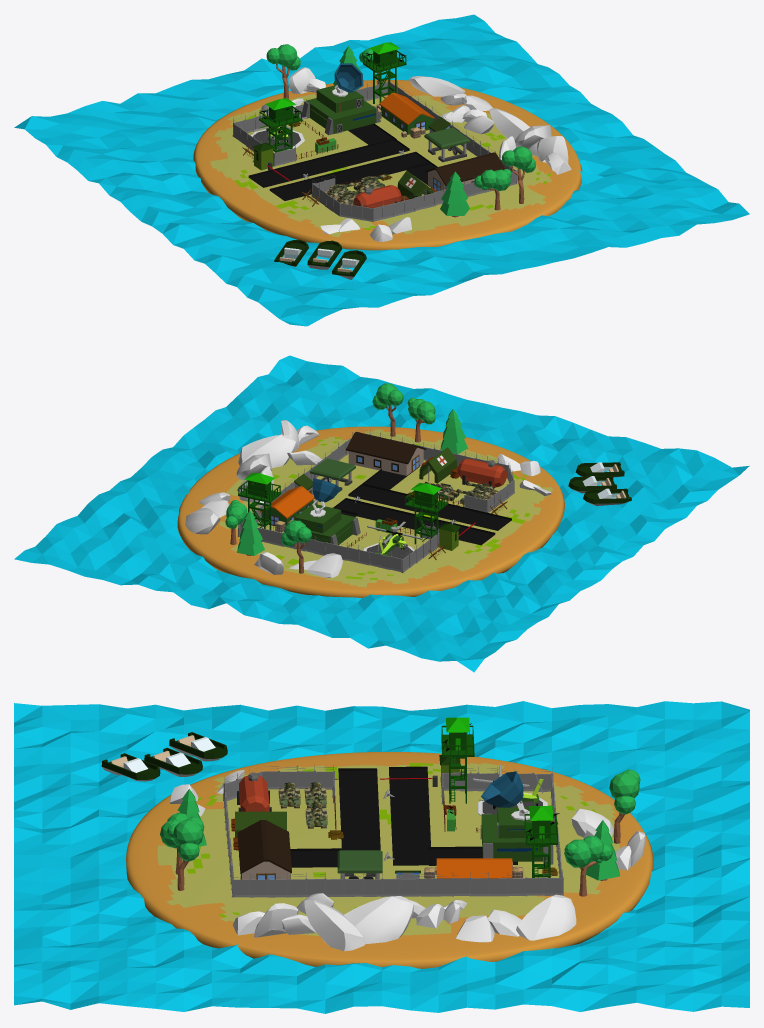
Rendered from update7_military_base (1).fbx.
3 renders of one model, top to bottom at view 1: azimuth 30°, elevation 25°; view 2: azimuth 150°, elevation 25°; view 3: azimuth 270°, elevation 25°, orthographic. The views are drawn at different scales.
Parts seen in each view (by area): view 1: Low Poly Water, Cube, RadioStation.001, Plane, Plane.001, Refectory.001, TOWER.004, Quarter.001, TOWER.006, TargetPratice.002, Cone.001, tree.002 (+12 smaller); view 2: Low Poly Water, Cube, Refectory.001, RadioStation.001, Plane.001, Plane, TOWER.006, TOWER.004, Quarter.001, LP_S-Rock2_03.001, GasTank.001, TargetPratice.002 (+15 smaller); view 3: Low Poly Water, Cube, Plane, RadioStation.001, Plane.001, Refectory.001, LP_S-Rock2_03, LP_S-Rock2_03.002, LP_S-Rock2_03.001, TOWER.006, TOWER.004, Quarter.001 (+20 smaller).
Part boxes in pixels (x1,y1,x2,y2): Low Poly Water: [14, 14, 749, 326]; Cube: [193, 80, 582, 250]; RadioStation.001: [302, 63, 380, 135]; Plane: [248, 138, 409, 187]; Plane.001: [269, 151, 430, 200]; Refectory.001: [425, 152, 505, 191]; TOWER.004: [363, 42, 406, 103]; Quarter.001: [379, 92, 434, 134]; TOWER.006: [259, 98, 302, 152]; TargetPratice.002: [424, 127, 470, 162]; Cone.001: [440, 171, 469, 217]; tree.002: [502, 146, 535, 203]; Low Poly Water: [14, 355, 749, 672]; Cube: [177, 426, 564, 597]; Refectory.001: [346, 432, 426, 475]; RadioStation.001: [283, 478, 360, 545]; Plane.001: [348, 483, 511, 530]; Plane: [333, 498, 495, 545]; TOWER.006: [404, 483, 447, 544]; TOWER.004: [238, 473, 281, 530]; Quarter.001: [260, 486, 314, 525]; LP_S-Rock2_03.001: [238, 435, 295, 467]; GasTank.001: [457, 458, 506, 488]; TargetPratice.002: [310, 458, 355, 491]; Low Poly Water: [14, 701, 749, 1013]; Cube: [126, 752, 653, 968]; Plane: [389, 766, 431, 865]; RadioStation.001: [480, 771, 553, 864]; Plane.001: [338, 768, 380, 850]; Refectory.001: [237, 819, 291, 879]; LP_S-Rock2_03: [344, 896, 413, 943]; LP_S-Rock2_03.002: [516, 894, 576, 940]; LP_S-Rock2_03.001: [304, 898, 365, 951]; TOWER.006: [441, 717, 474, 803]; TOWER.004: [524, 805, 559, 877]; Quarter.001: [436, 858, 512, 878].
Size of what is drawn, in the model's own units: 22686 by 3642 by 23542.
Materials: 107 (14 with a texture image).
